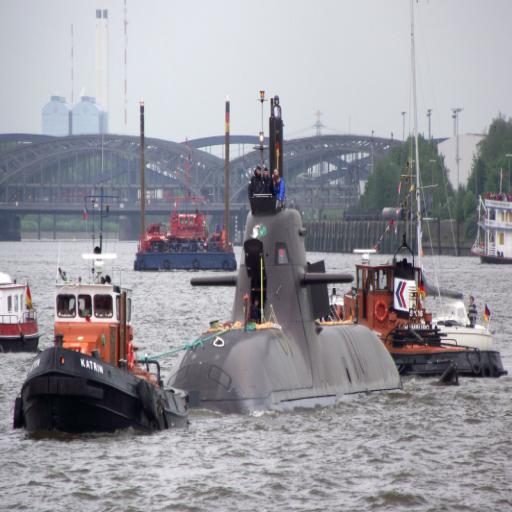submarine: (167, 120, 405, 431)
